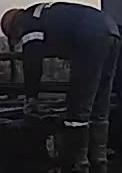gloves: (22, 91, 41, 118)
helmet: (0, 7, 26, 43)
vest: (21, 1, 121, 62)
